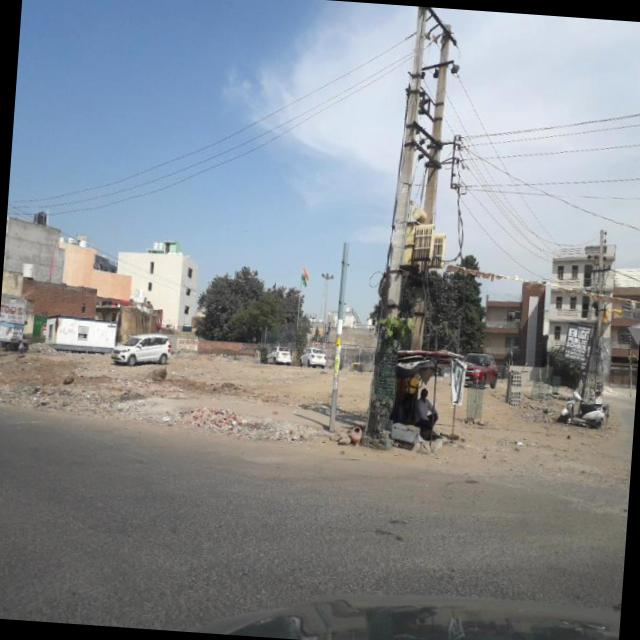crack: (46, 442, 600, 607)
